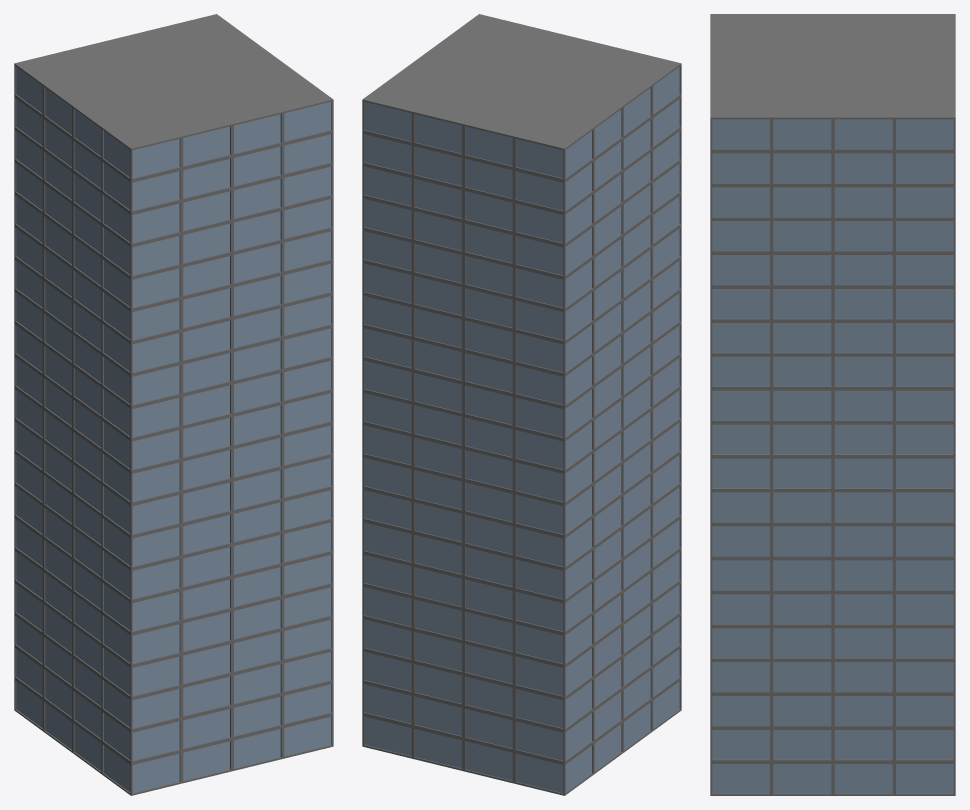
The model's file is Mark.fbx.
3 renders of one model, left to right at view 1: azimuth 30°, elevation 25°; view 2: azimuth 150°, elevation 25°; view 3: azimuth 270°, elevation 25°, orthographic. The views are drawn at different scales.
Parts seen in each view (by area): view 1: Mark; view 2: Mark; view 3: Mark.
Boxes of the visible parts, <box> form: Mark: <box>14,14,333,795</box>; Mark: <box>362,14,681,795</box>; Mark: <box>710,14,955,795</box>.
Size of the model in its own units: 620 by 1894 by 620.
